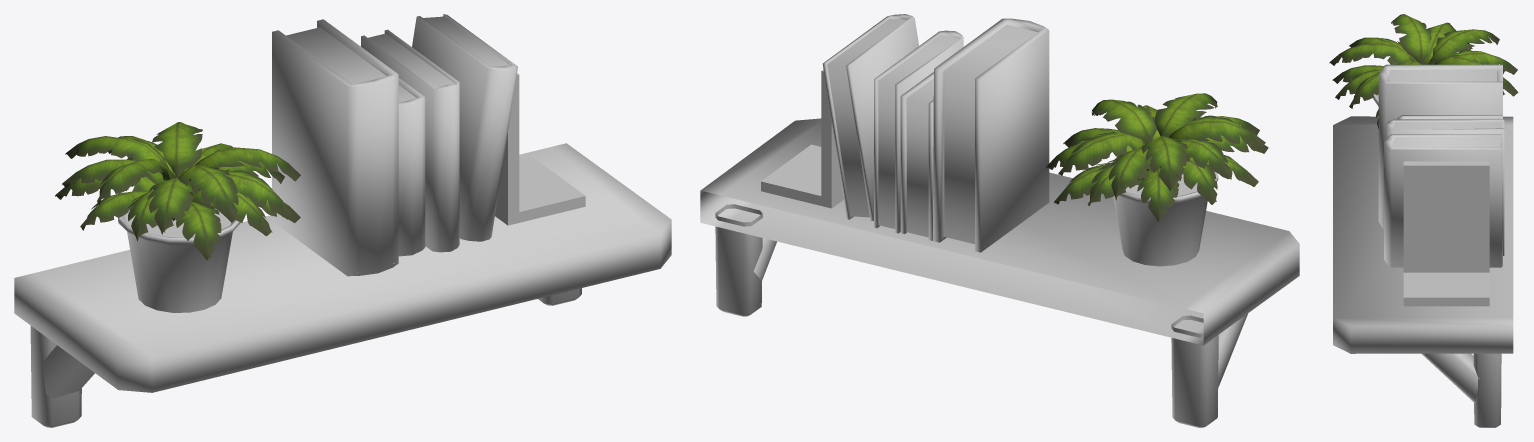
The model's file is Estanteria1.fbx.
The picture shows the model from 3 angles, left to right: view 1: azimuth 30°, elevation 25°; view 2: azimuth 150°, elevation 25°; view 3: azimuth 270°, elevation 25°; orthographic projection. The views are drawn at different scales.
Visible parts, largest first — view 1: Estanteria1; view 2: Estanteria1; view 3: Estanteria1.
Boxes of the visible parts, <box> form: Estanteria1: <box>14,14,671,427</box>; Estanteria1: <box>700,14,1299,427</box>; Estanteria1: <box>1329,14,1518,427</box>.
Bounding box in the file's own units: 340 × 192 × 131.
